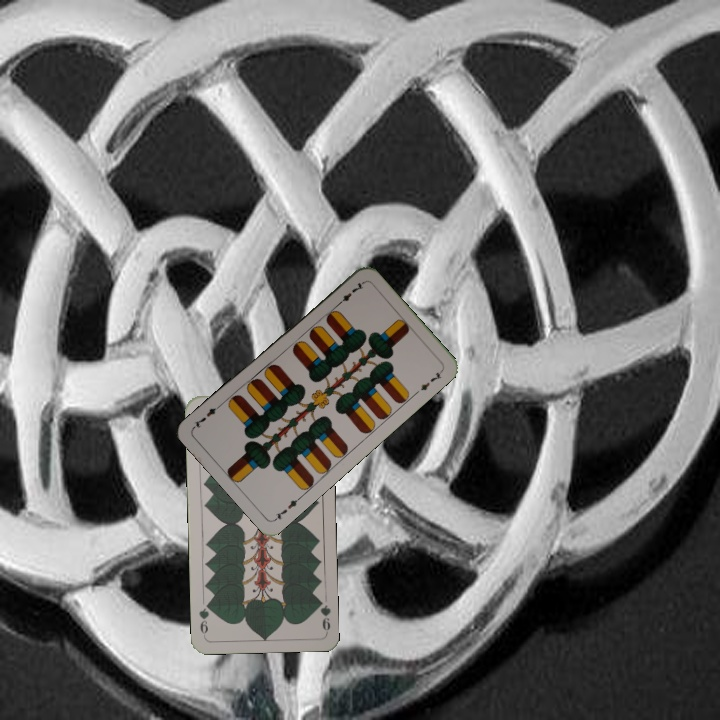E7: (333, 278, 366, 309), (271, 492, 304, 523)
G9: (314, 594, 333, 635)
